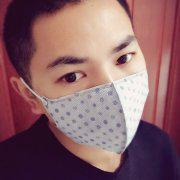OK: (34, 32, 152, 155)
